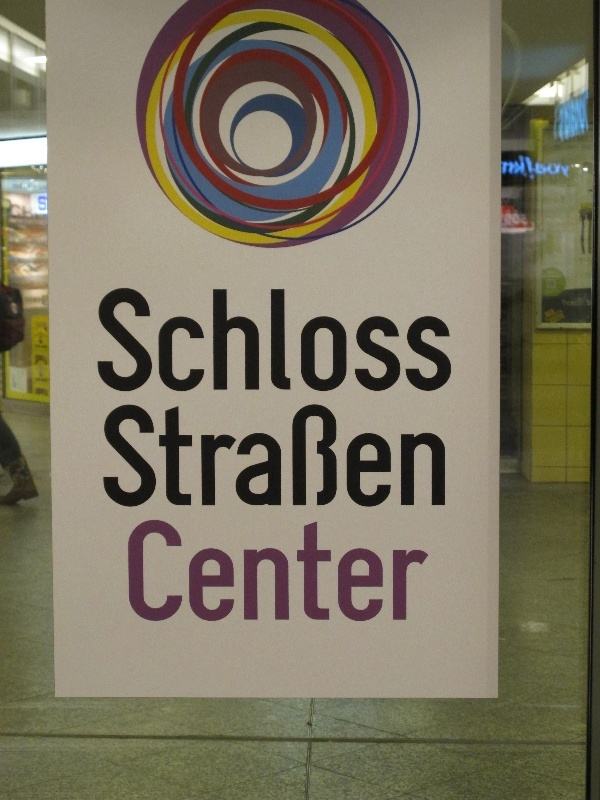text: (113, 285, 128, 394), (129, 285, 144, 394), (145, 285, 160, 394), (161, 285, 176, 394), (177, 285, 192, 394), (193, 285, 208, 394), (209, 285, 224, 394), (225, 285, 240, 394), (241, 285, 256, 394), (257, 285, 272, 394), (273, 285, 288, 394), (289, 285, 304, 394), (305, 285, 320, 394), (321, 285, 336, 394), (337, 285, 352, 394), (353, 285, 368, 394), (369, 285, 384, 394), (385, 285, 400, 394), (401, 285, 416, 394), (417, 285, 432, 394), (433, 285, 448, 394), (113, 400, 128, 509), (129, 400, 144, 509), (145, 400, 160, 509), (161, 400, 176, 509), (177, 400, 192, 509), (193, 400, 208, 509), (209, 400, 224, 509), (225, 400, 240, 509), (241, 400, 256, 509), (257, 400, 272, 509), (273, 400, 288, 509), (289, 400, 304, 509), (305, 400, 320, 509), (321, 400, 336, 509), (337, 400, 352, 509), (353, 400, 368, 509), (369, 400, 384, 509), (385, 400, 400, 509), (401, 400, 416, 509), (417, 400, 432, 509), (129, 522, 144, 625), (145, 522, 160, 625), (161, 522, 176, 625), (177, 522, 192, 625), (193, 522, 208, 625), (209, 522, 224, 625), (225, 522, 240, 625), (241, 522, 256, 625), (257, 522, 272, 625), (273, 522, 288, 625), (289, 522, 304, 625), (305, 522, 320, 625), (321, 522, 336, 625), (337, 522, 352, 625), (353, 522, 368, 625), (369, 522, 384, 625), (385, 522, 400, 625), (401, 522, 416, 625), (433, 400, 447, 509), (99, 285, 112, 394), (417, 522, 430, 625), (561, 90, 576, 145), (105, 400, 112, 509), (577, 90, 590, 145), (449, 285, 454, 394), (513, 152, 528, 180), (529, 152, 544, 180), (545, 152, 560, 180), (513, 207, 529, 228), (503, 152, 512, 180), (561, 152, 570, 180), (501, 207, 512, 228), (557, 90, 560, 145), (38, 196, 48, 211)
